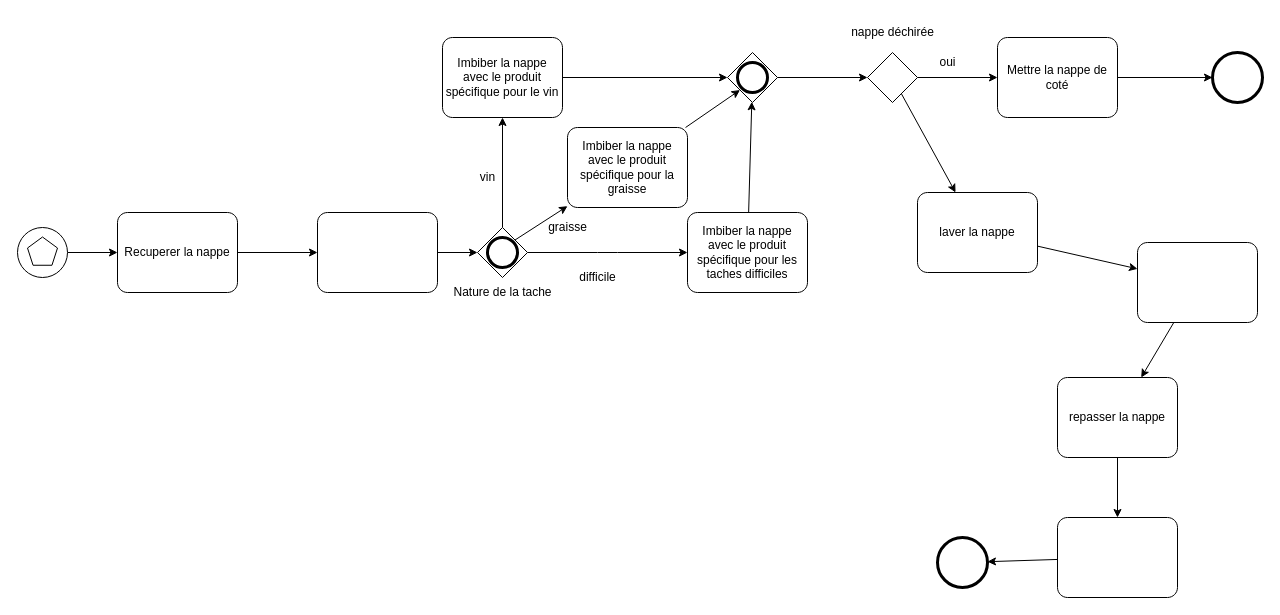
Image size: 1280x615. Some labels were removed from this diagram. The shapes that lost their labels are listed below. From the top down, each one's centre as x and y in pixels, then its label:
pixel 377 252: Inspecter la nappe
pixel 1197 282: secher la nappe
pixel 1117 557: plier la nappe
